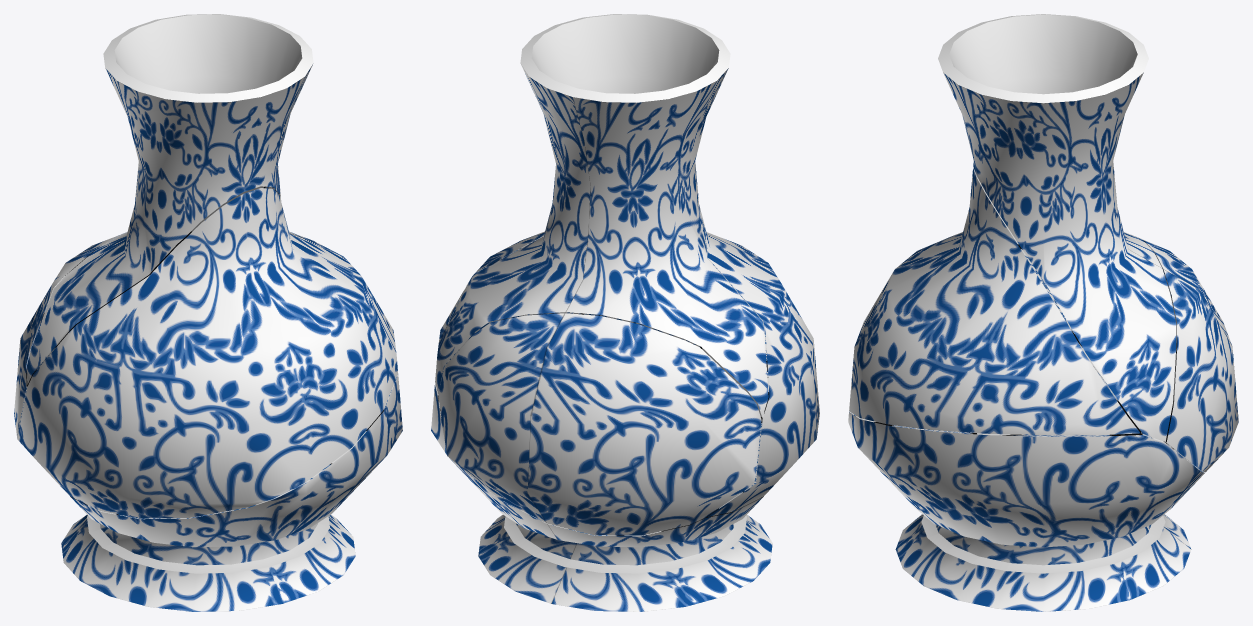
File: YwhiteWareBroken.fbx
The picture shows the model from 3 angles, left to right: view 1: azimuth 30°, elevation 25°; view 2: azimuth 150°, elevation 25°; view 3: azimuth 270°, elevation 25°; orthographic projection.
Visible parts, largest first — view 1: pCylinder2_cell.003, pCylinder2_cell.002, pCylinder2_cell, pCylinder2_cell.001; view 2: pCylinder2_cell.002, pCylinder2_cell.001, pCylinder2_cell, pCylinder2_cell.003; view 3: pCylinder2_cell.002, pCylinder2_cell, pCylinder2_cell.003, pCylinder2_cell.001.
Boxes of the visible parts, <box> form: pCylinder2_cell.003: <box>17,188,397,518</box>; pCylinder2_cell.002: <box>26,14,316,385</box>; pCylinder2_cell: <box>61,373,402,611</box>; pCylinder2_cell.001: <box>14,234,120,437</box>; pCylinder2_cell.002: <box>435,14,768,417</box>; pCylinder2_cell.001: <box>438,313,761,535</box>; pCylinder2_cell: <box>431,382,772,611</box>; pCylinder2_cell.003: <box>439,213,819,516</box>; pCylinder2_cell.002: <box>938,14,1176,441</box>; pCylinder2_cell: <box>848,411,1204,611</box>; pCylinder2_cell.003: <box>849,168,1141,435</box>; pCylinder2_cell.001: <box>1131,234,1238,472</box>.
Bounding box in the file's own units: 64.4 × 90.06 × 64.4.
